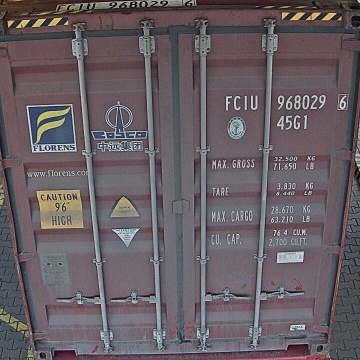serial_id: (225, 94, 348, 110)
